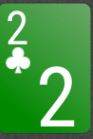Clover: (5, 47, 32, 74)
